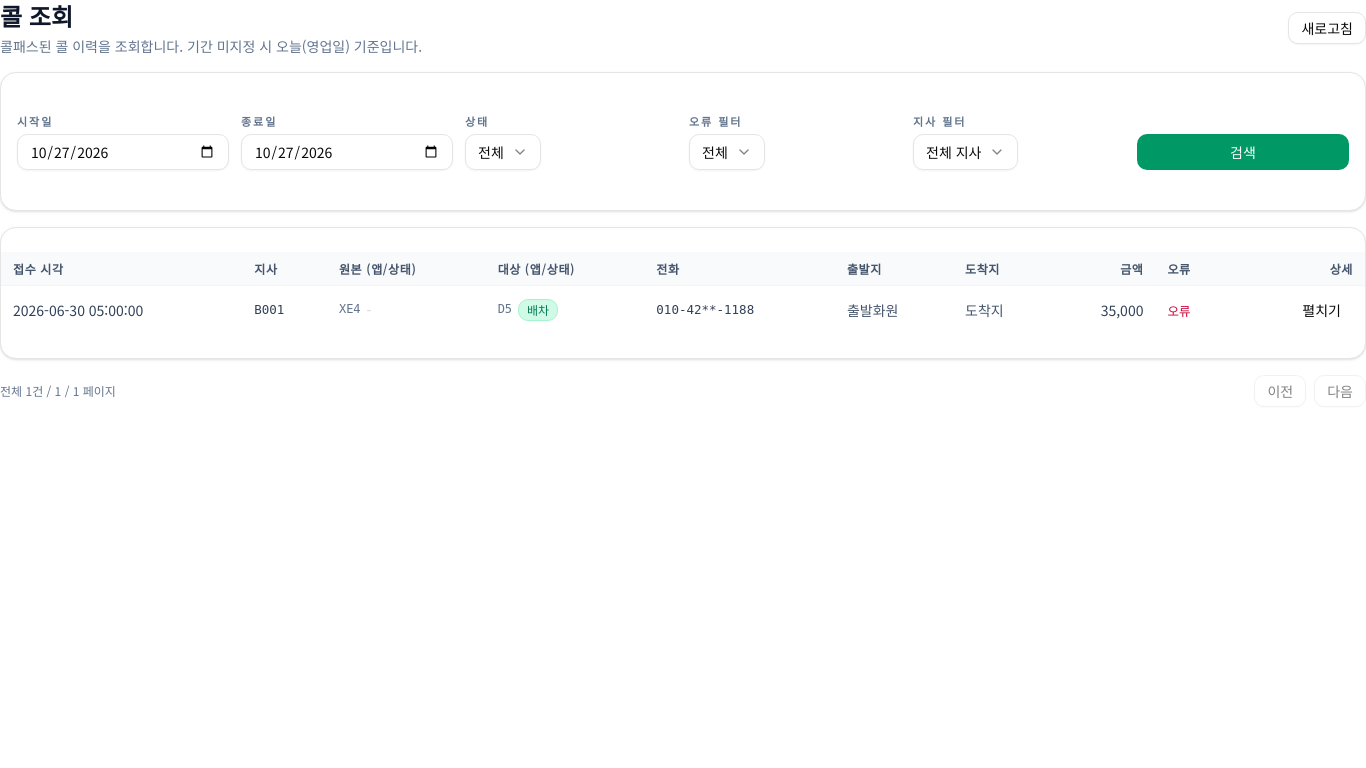
Test case: AircpmCallsPage › super + hasLog: 펼침 상세에 실패 로그 보기 버튼, 클릭 시 로그 표시
Expected: the text "010-42**-1188" is shown, [644,285,835,334]
Click the button "펼치기" at (1322,310), box [1290,294,1353,326]
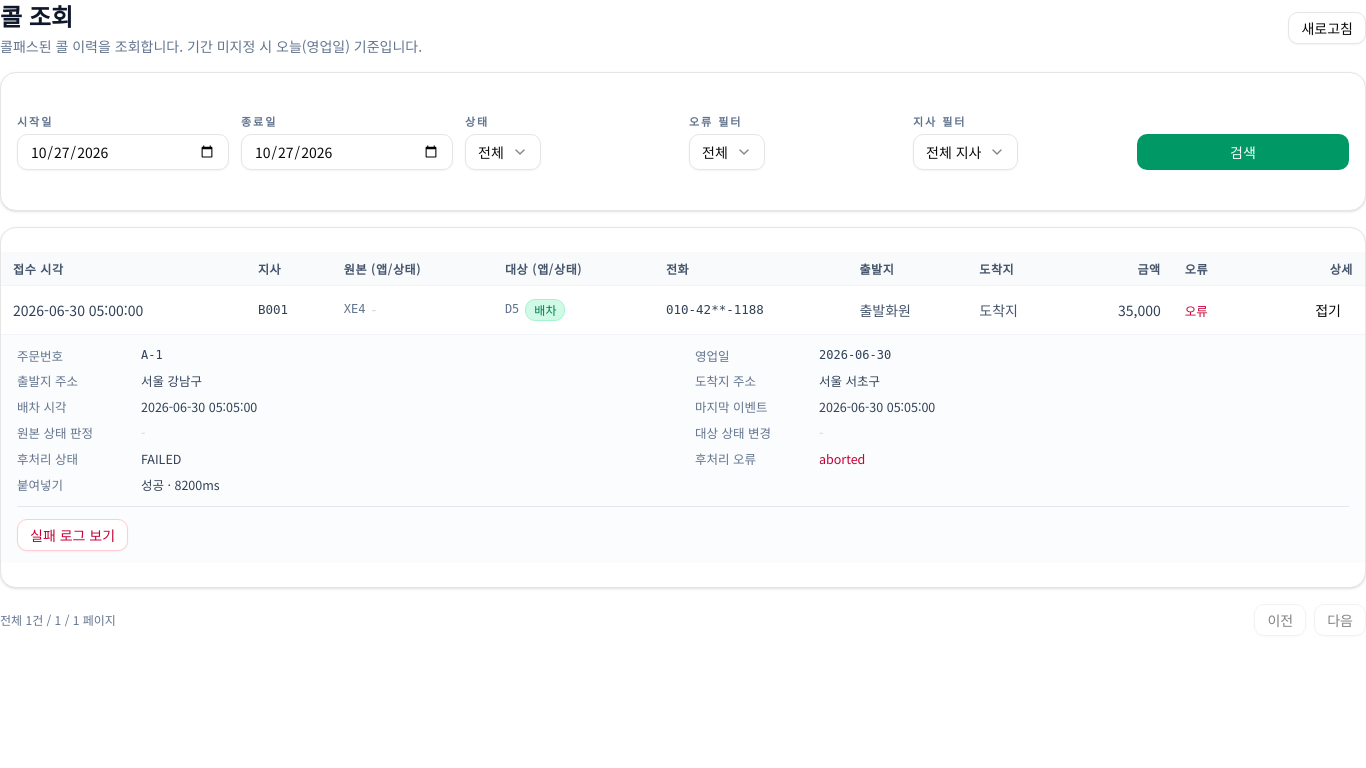
Click the button "실패 로그 보기" at (73,535), box [17,519,128,551]
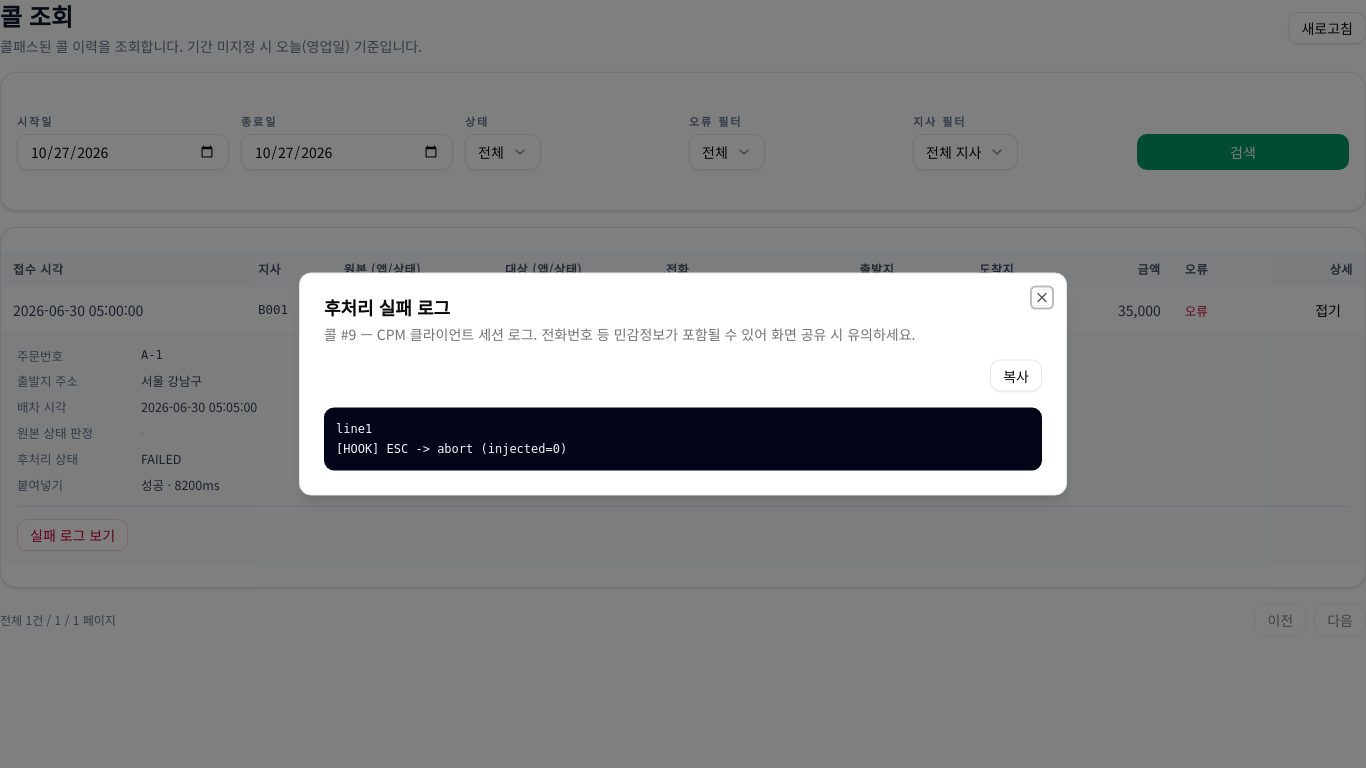
Expected: the text "line1 [HOOK] ESC -> abort (injected=0)" is shown, [324,408,1042,470]
